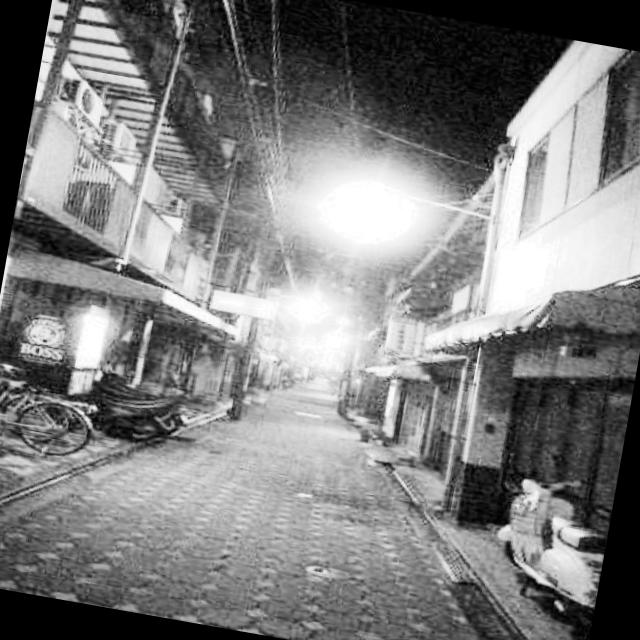Bicycle: (0, 347, 119, 487)
Motorcycle: (462, 467, 615, 640)
